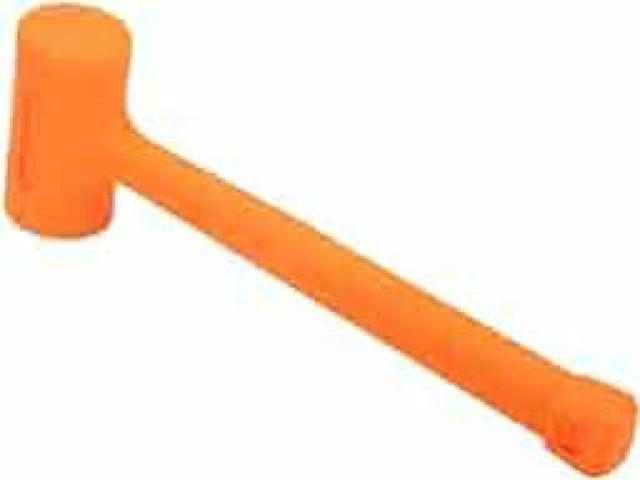hammer: (7, 3, 638, 479)
